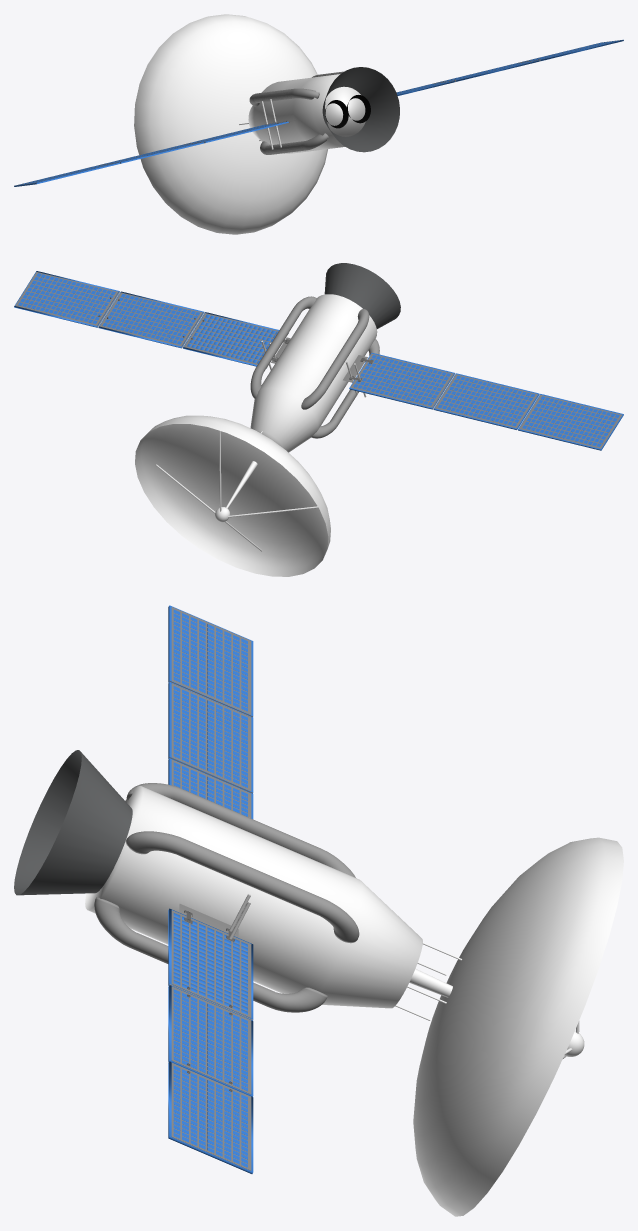
Rendered from simple-satellite.glb.
3 views of the same model, one above another, from view 1: azimuth 30°, elevation 25°; view 2: azimuth 150°, elevation 25°; view 3: azimuth 270°, elevation 25° (orthographic). The views are drawn at different scales.
Visible parts, largest first — view 1: antena, badan satelit, Cylinder.004, Cylinder, Cube.002, Cube.011, sayap, sayap.001; view 2: antena, badan satelit, sayap, sayap.001, Cylinder, Cylinder.004, Cube.010, Cube.005, Cube.007, Cube.004, Cube.006, Cube.009 (+2 smaller); view 3: antena, badan satelit, Cylinder.004, Cylinder, sayap.001, sayap, Cube.007, Cube.004, Cube.005, Cube.010, Cube.009, Cube.011 (+2 smaller).
Boxes of the visible parts, box(x1,y1,x2,y2) form: antena: box(134, 14, 327, 234); badan satelit: box(248, 74, 365, 153); Cylinder.004: box(322, 67, 399, 152); Cylinder: box(249, 71, 344, 154); Cube.002: box(14, 121, 288, 186); Cube.011: box(397, 39, 623, 95); sayap: box(17, 122, 285, 185); sayap.001: box(397, 40, 621, 94); antena: box(135, 415, 330, 576); badan satelit: box(250, 294, 377, 452); sayap: box(350, 353, 622, 448); sayap.001: box(15, 272, 288, 368); Cylinder: box(250, 296, 379, 438); Cylinder.004: box(324, 263, 400, 328); Cube.010: box(102, 294, 199, 344); Cube.005: box(18, 273, 115, 323); Cube.007: box(522, 396, 619, 446); Cube.004: box(438, 375, 534, 426); Cube.006: box(353, 355, 450, 405); Cube.009: box(187, 314, 277, 363); antena: box(413, 837, 623, 1216); badan satelit: box(85, 786, 422, 1008); Cylinder.004: box(14, 750, 132, 895); Cylinder: box(94, 783, 359, 1012); sayap.001: box(169, 910, 252, 1170); sayap: box(169, 607, 252, 818); Cube.007: box(173, 609, 247, 711); Cube.004: box(173, 686, 247, 787); Cube.005: box(173, 1066, 247, 1167); Cube.010: box(173, 989, 247, 1091); Cube.009: box(173, 913, 247, 1014); Cube.011: box(168, 908, 253, 1173).
Bounding box in the file's own units: 27.39 × 10.56 × 13.29.
